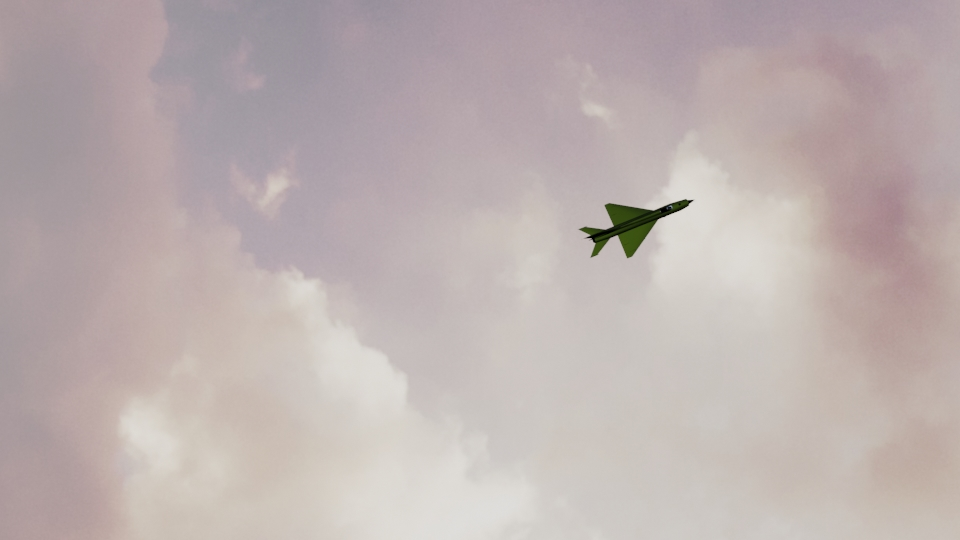plane: (578, 195, 693, 257)
